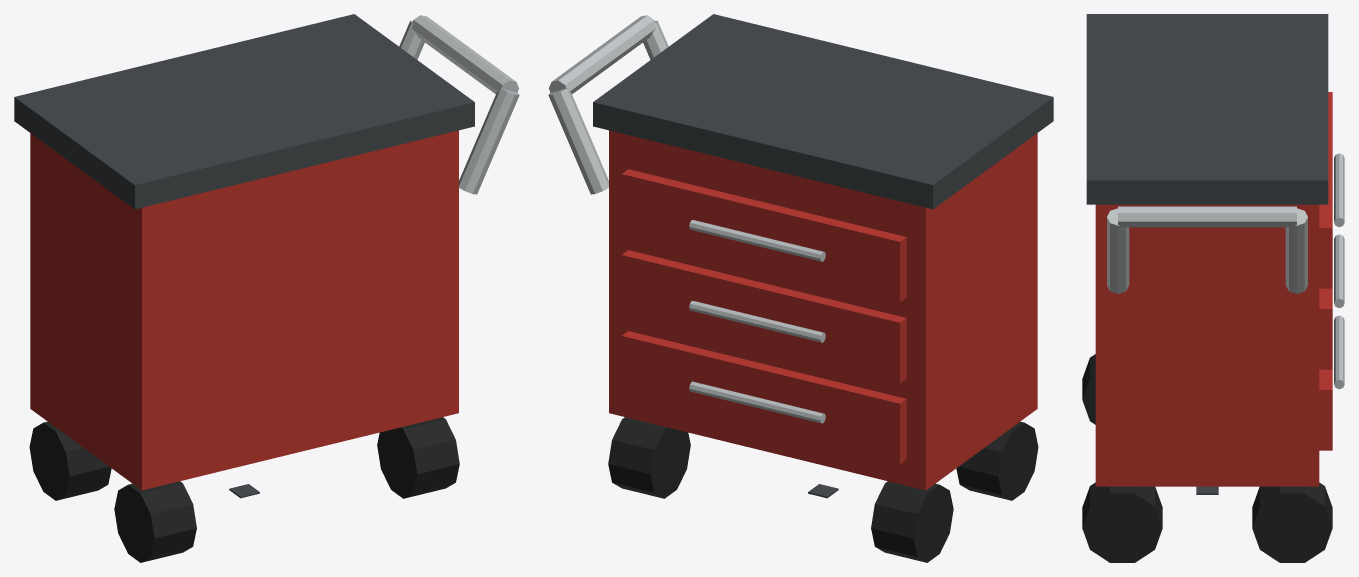
Rendered from HomebaseToolCart_LOD00.gltf.
The picture shows the model from 3 angles, left to right: view 1: azimuth 30°, elevation 25°; view 2: azimuth 150°, elevation 25°; view 3: azimuth 270°, elevation 25°; orthographic projection.
Parts seen in each view (by area): view 1: HomebaseToolCart_node; view 2: HomebaseToolCart_node; view 3: HomebaseToolCart_node.
Boxes of the visible parts, left/top/right/bottom form: HomebaseToolCart_node: left=14, top=14, right=519, bottom=562; HomebaseToolCart_node: left=548, top=14, right=1053, bottom=562; HomebaseToolCart_node: left=1082, top=14, right=1344, bottom=562.
Bounding box in the file's own units: 1.04 × 0.97 × 0.587.
